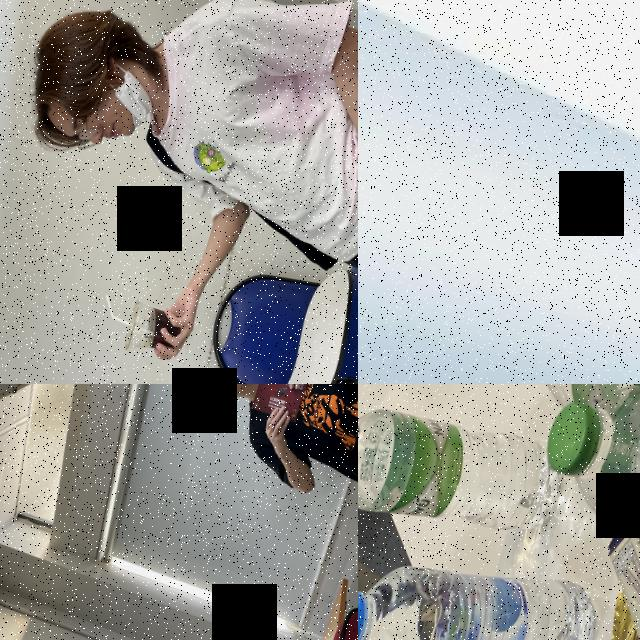bottle: (358, 384, 564, 558), (358, 509, 614, 640), (528, 384, 640, 578)
cup: (358, 0, 640, 384), (121, 296, 185, 364)
